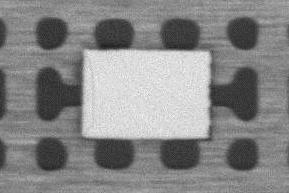DIE_CRACK: (84, 56, 95, 132)
